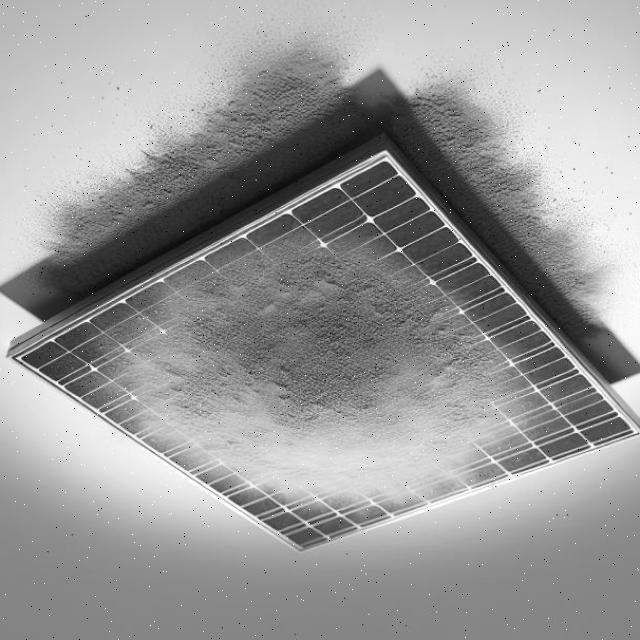Anomaly Solar Panel: (14, 116, 637, 640)
Surface Contaminant: (67, 161, 586, 598)
